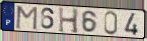0: (103, 10, 119, 36)
4: (123, 12, 140, 37)
6: (81, 10, 99, 34), (40, 7, 55, 32)
H: (58, 6, 80, 35)
M: (15, 5, 39, 31)
